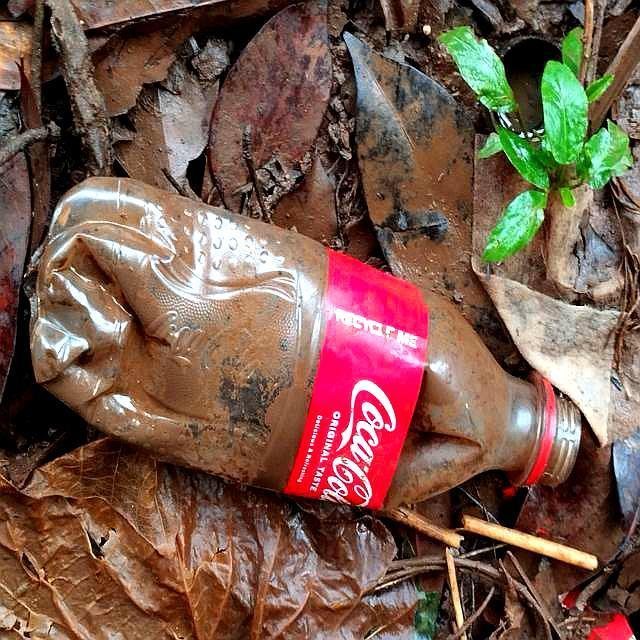Non-biodegradable: (9, 151, 595, 531)
